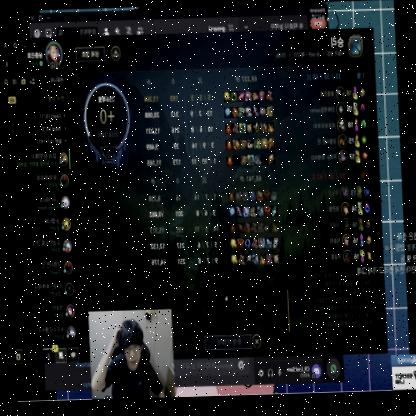streamer: (86, 321, 162, 401)
